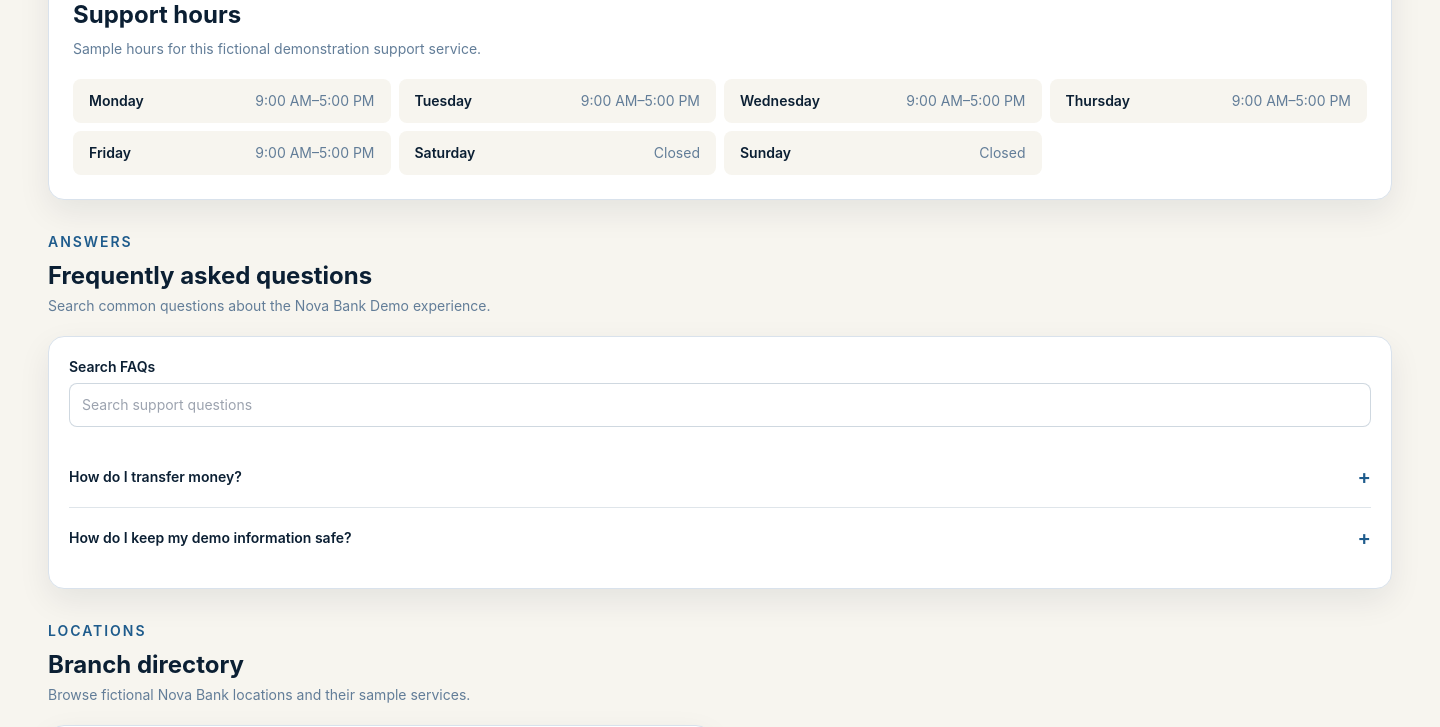
Test: SupportPage › shows an FAQ empty state when a search has no matching questions
This screenshot has width=1440, height=727.
(page scrolled)
In the search field labelled "Search FAQs": (720, 405) [69,383,1371,427], type "no-such-question"
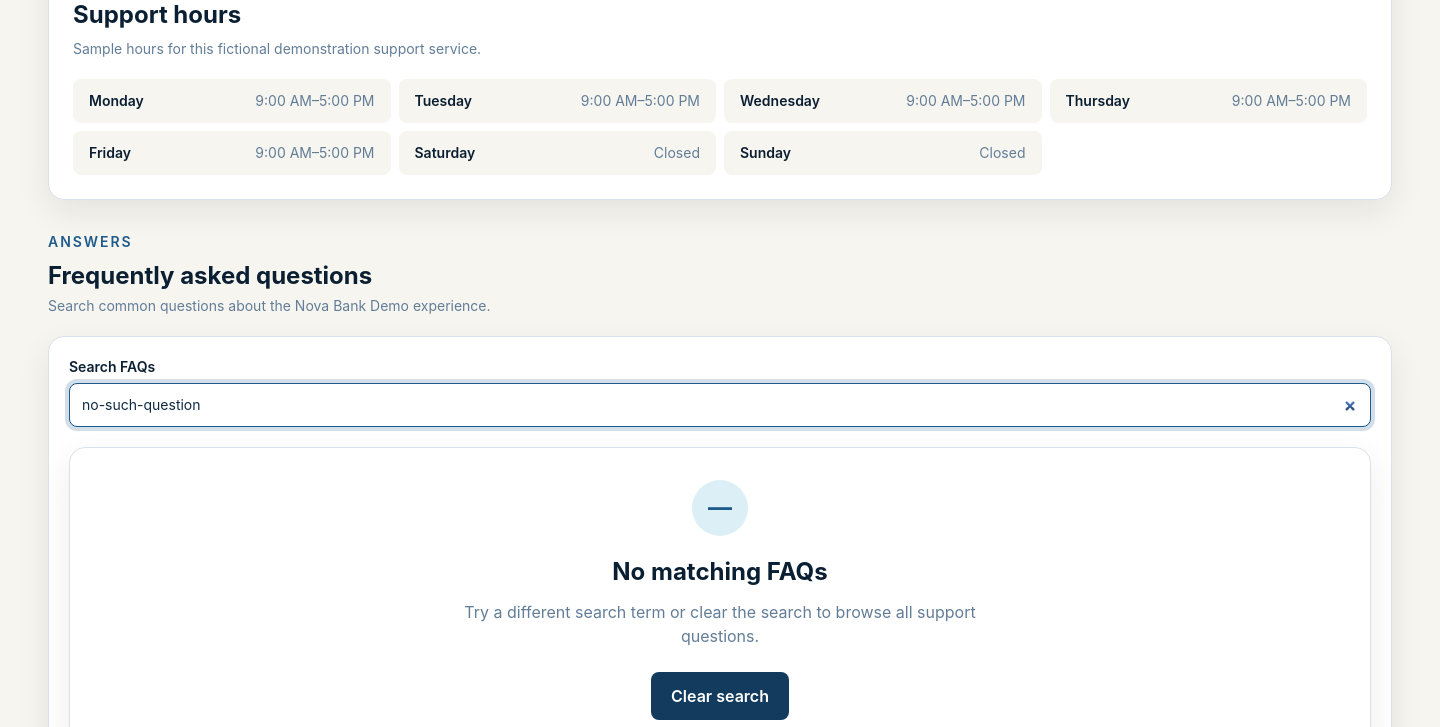
Check: the heading "No matching FAQs" is shown, box [612,556,828,588]
Check: the text "Try a different search term or clear the search to browse all support questions." is shown, box [432,600,1008,648]
